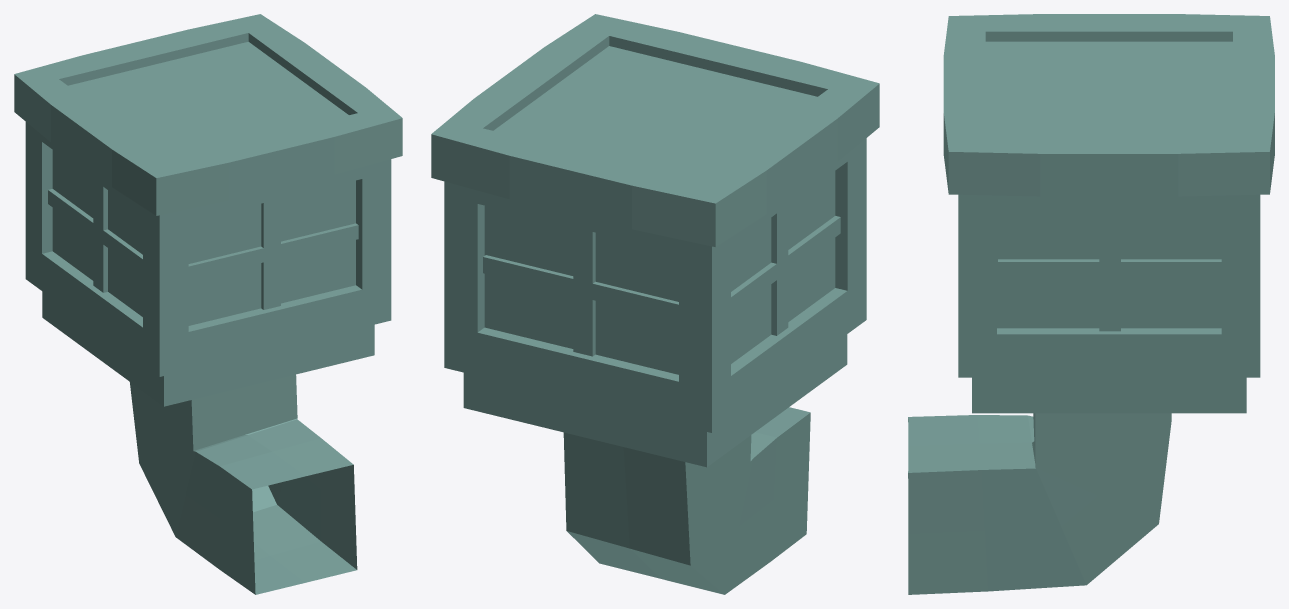
Rendered from building 17.fbx.
3 views of the same model, side by side, from view 1: azimuth 30°, elevation 25°; view 2: azimuth 150°, elevation 25°; view 3: azimuth 270°, elevation 25° (orthographic). The views are drawn at different scales.
Visible parts, largest first — view 1: building 17; view 2: building 17; view 3: building 17.
Boxes of the visible parts, left/top/right/bottom form: building 17: left=14, top=14, right=402, bottom=594; building 17: left=431, top=14, right=879, bottom=594; building 17: left=908, top=14, right=1274, bottom=594.
Bounding box in the file's own units: 851 × 1357 × 943.
